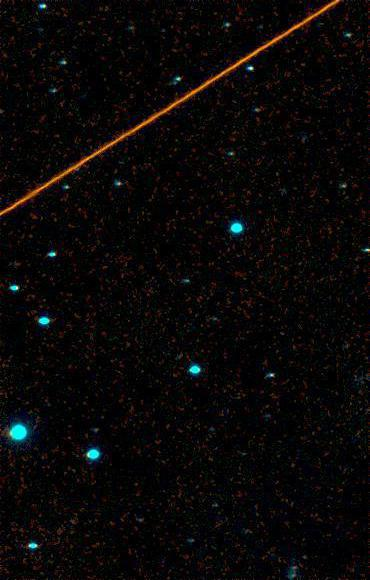star: (105, 183, 135, 213)
